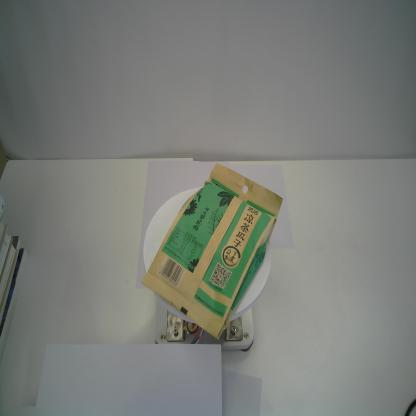Dried Food: (140, 162, 284, 341)
